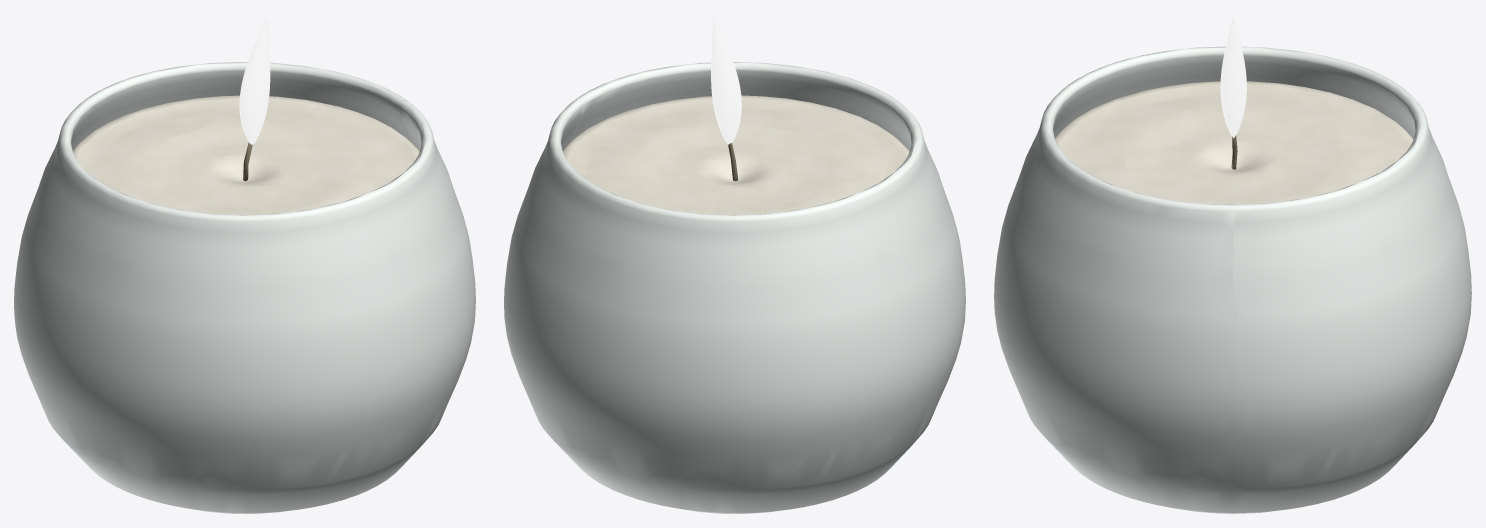
Rendered from veladora_4.gltf.
3 views of the same model, side by side, from view 1: azimuth 30°, elevation 25°; view 2: azimuth 150°, elevation 25°; view 3: azimuth 270°, elevation 25° (orthographic). The views are drawn at different scales.
Parts seen in each view (by area): view 1: vaso, cera, llama_4; view 2: vaso, cera, llama_4; view 3: vaso, cera, llama_4.
Boxes of the visible parts, <box> form: vaso: <box>14,62,475,513</box>; cera: <box>72,95,419,214</box>; llama_4: <box>239,14,270,145</box>; vaso: <box>504,62,965,513</box>; cera: <box>562,95,909,214</box>; llama_4: <box>711,14,741,144</box>; vaso: <box>994,46,1471,513</box>; cera: <box>1055,81,1413,204</box>; llama_4: <box>1220,14,1246,138</box>.
Size of the model in its own units: 0.1108 by 0.116 by 0.1109.
Materials: 4 (3 with a texture image).
